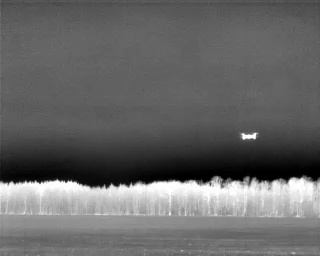DRONE: (236, 126, 262, 146)
